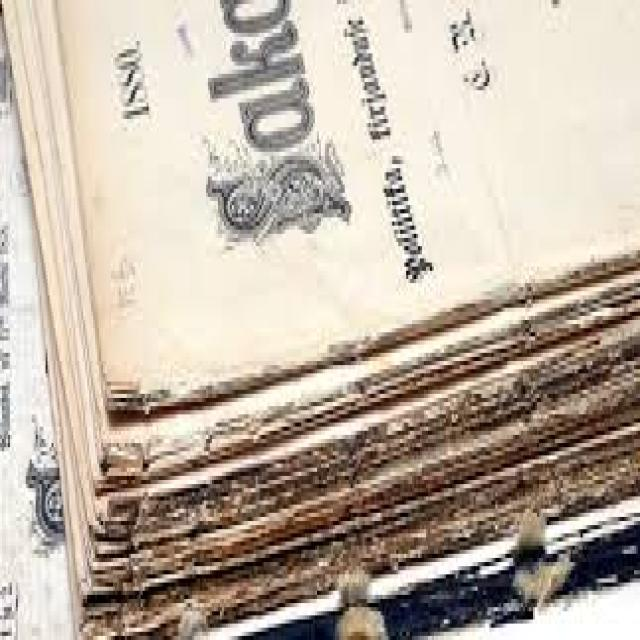paper: (0, 0, 638, 636), (52, 0, 638, 361)
